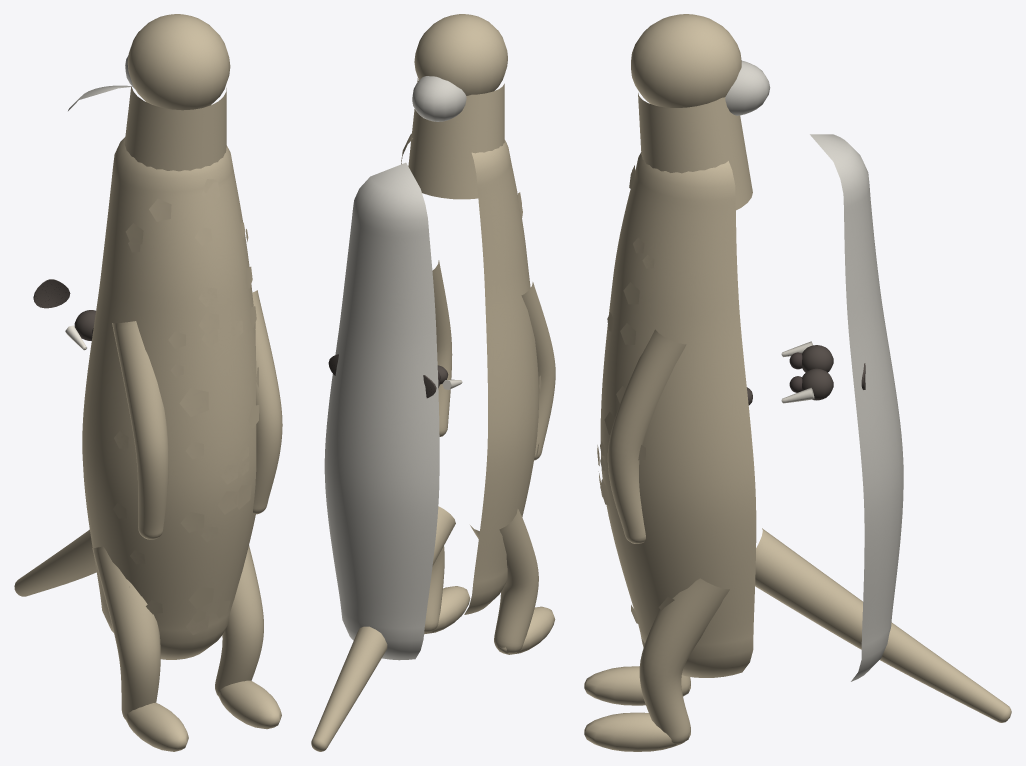
File: other-meerkat.glb
3 renders of one model, left to right at view 1: azimuth 30°, elevation 25°; view 2: azimuth 150°, elevation 25°; view 3: azimuth 270°, elevation 25°, orthographic. The views are drawn at different scales.
Parts seen in each view (by area): view 1: meerkat-sentry; view 2: meerkat-sentry; view 3: meerkat-sentry.
Boxes of the visible parts, bbox=[...] form: meerkat-sentry: bbox=[14, 14, 282, 751]; meerkat-sentry: bbox=[311, 14, 555, 751]; meerkat-sentry: bbox=[584, 14, 1011, 751].
Size of the model in its own units: 4920 by 21036 by 11511.
Materials: 5 (3 with a texture image).
